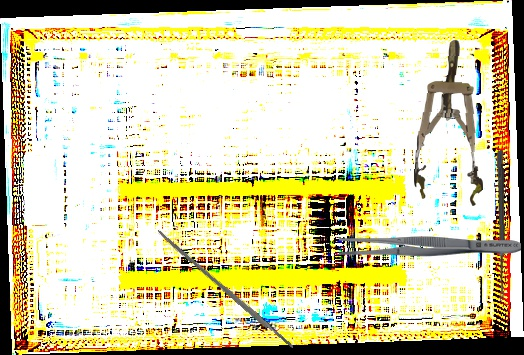Dressing Forceps: (339, 235, 521, 258)
Scalpel Handle: (155, 228, 295, 351)
Speculum: (412, 38, 491, 207)
Surgical Spoon: (496, 150, 506, 301)
